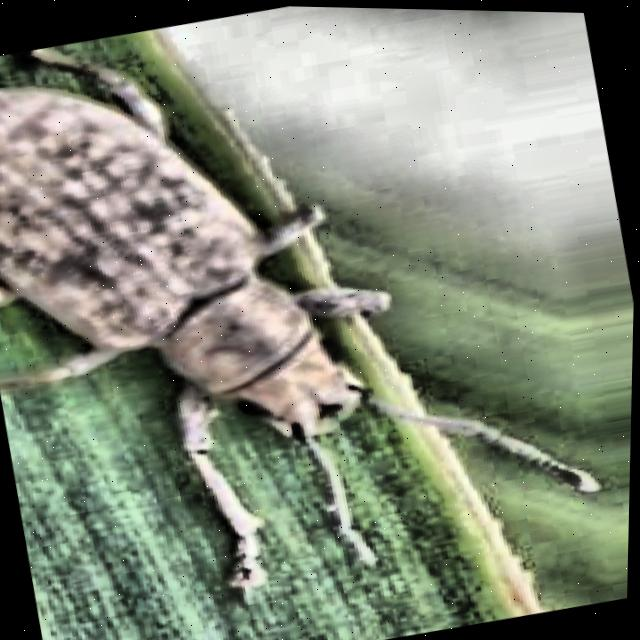Stink bug: (0, 0, 509, 601)
